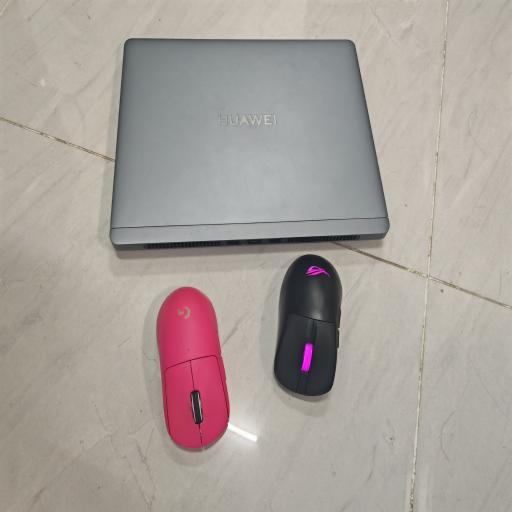laptop: (110, 39, 389, 249)
mouse: (156, 287, 230, 448), (274, 254, 342, 396)
